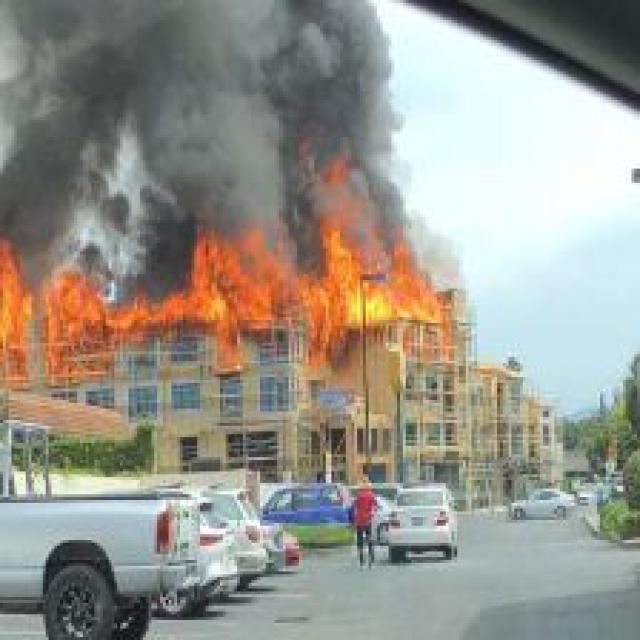fire: (3, 134, 448, 386)
